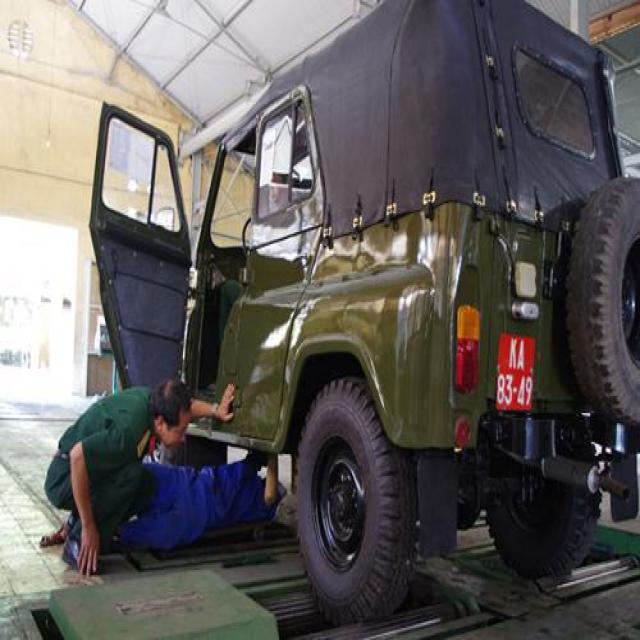License-Plates: (488, 333, 538, 415)
